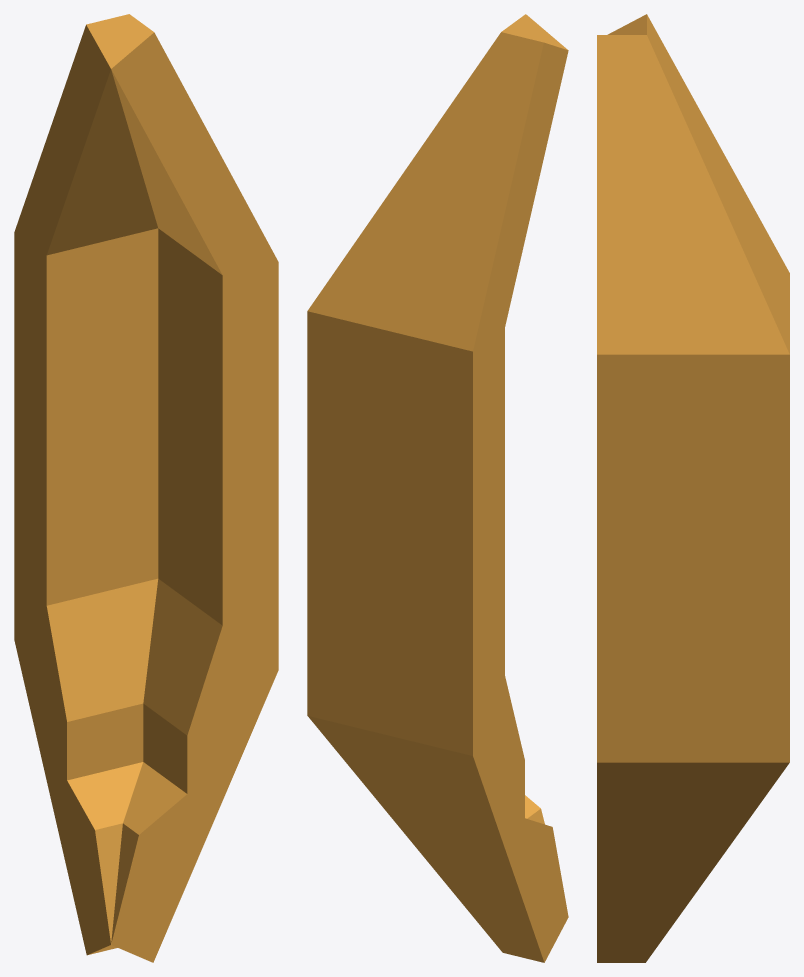
Rendered from scifi-scifi-wall-corridor-corner-stripe.glb.
3 views of the same model, side by side, from view 1: azimuth 30°, elevation 25°; view 2: azimuth 150°, elevation 25°; view 3: azimuth 270°, elevation 25° (orthographic).
Visible parts, largest first — view 1: scifi-wall-corridor-corner-stripe; view 2: scifi-wall-corridor-corner-stripe; view 3: scifi-wall-corridor-corner-stripe.
Part boxes in pixels (<box>): scifi-wall-corridor-corner-stripe: <box>14,14,278,962</box>; scifi-wall-corridor-corner-stripe: <box>307,14,568,962</box>; scifi-wall-corridor-corner-stripe: <box>597,14,789,962</box>.
Size of the model in its own units: 0.6 by 3.19 by 0.6.
